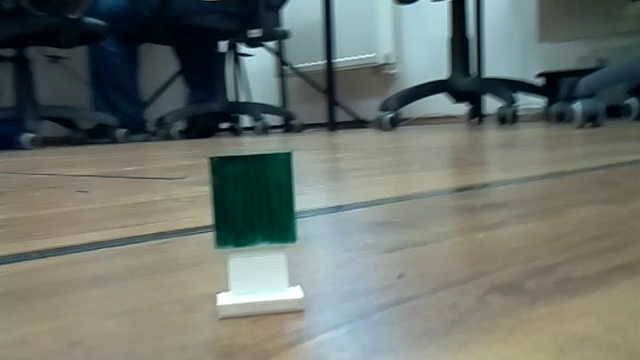rect: (192, 142, 316, 323)
